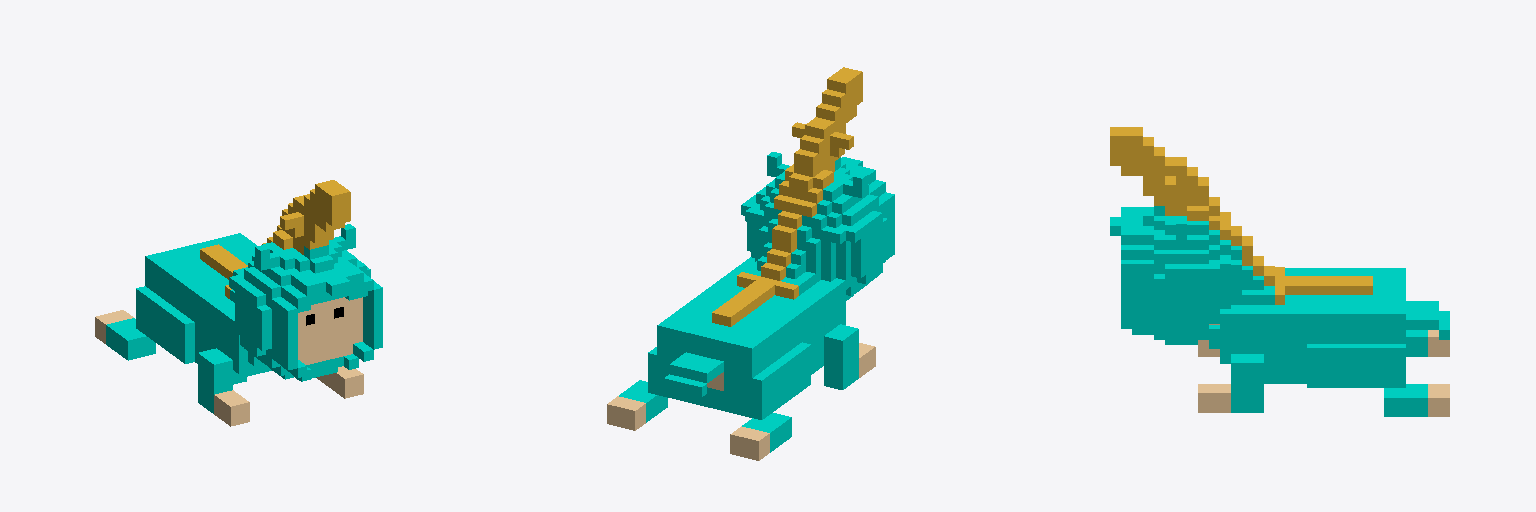
3 renders of one model, left to right at view 1: azimuth 30°, elevation 25°; view 2: azimuth 150°, elevation 25°; view 3: azimuth 270°, elevation 25°, orthographic.
Parts seen in each view (by area): view 1: Matrix; view 2: Matrix; view 3: Matrix.
Part boxes in pixels (x1,y1,x2,y2): Matrix: (95, 180, 382, 426); Matrix: (607, 67, 894, 460); Matrix: (1110, 127, 1449, 416).
Size of the model in its own units: 16 by 25 by 31.
1 materials, 1 textured.